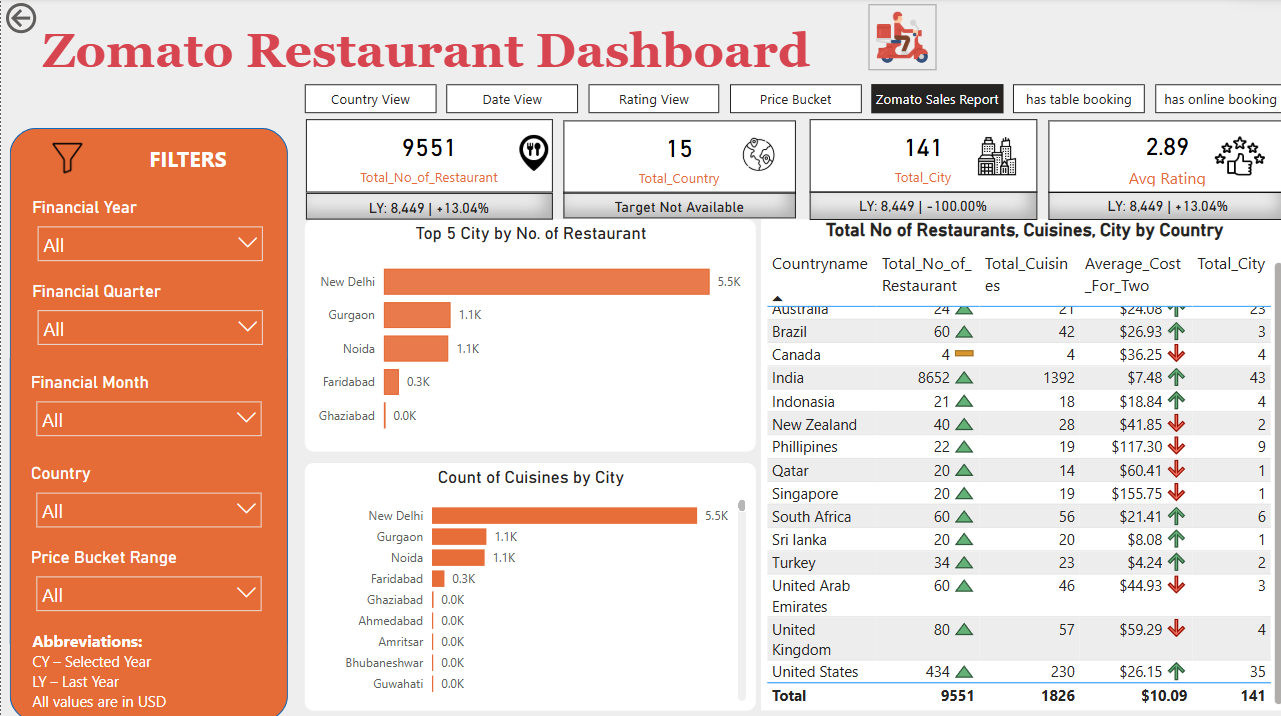

The page's visual inventory and layout, read from the dashboard file:
{"tool":"powerbi","page":{"name":"Zomato Sales Report","canvas":[1280,720],"ordinal":4},"visuals":[{"type":"card","fields":{"Values":["CountNonNull(Main.RestaurantID)"]},"box":[303.8,121.2,245.5,72.7],"z":0},{"type":"card","fields":{"Values":["CountNonNull(Country.Countryname)"]},"box":[560.3,121.6,231,72.4],"z":1000},{"type":"shape","title":"FILTERS","box":[8.1,129.5,276.9,591],"z":2000},{"type":"card","fields":{"Values":["Count(Main.City)"]},"box":[804.5,121.2,226.5,72.7],"z":3000},{"type":"card","fields":{"Values":["Avg(Main.Rating)"]},"box":[1042.6,121.3,237.7,72.1],"z":4000},{"type":"image","box":[965.6,132.8,52.5,49.2],"z":5000},{"type":"barChart","title":"Top 5 City by No. of Restaurant","fields":{"Category":["Main.City"],"Y":["CountNonNull(Main.RestaurantID)"]},"box":[302.8,220.2,448.5,231.5],"z":6000},{"type":"image","box":[1201.6,123,62.3,67.2],"z":7000},{"type":"actionButton","box":[0,0,100,40],"z":8000},{"type":"barChart","fields":{"Category":["Main.City"],"Y":["CountNonNull(Main.Cuisines)"]},"box":[302.8,463.1,448.5,246.1],"z":9000},{"type":"tableEx","title":"Total No of Restaurants, Cuisines, City by Country","fields":{"Values":["Country.Countryname","CountNonNull(Main.RestaurantID)","Main.Cuisines","Avg(Main.Average_Cost_USD)","Main.City"]},"box":[756.2,220.2,524.6,489],"z":10000},{"type":"slicer","title":"Financial Year","fields":{"Values":["CalendarTable.Year"]},"box":[25.9,197.5,244.5,84.2],"z":11000},{"type":"image","box":[25.9,139.3,79.3,40.5],"z":12000},{"type":"slicer","title":"Financial Quarter","fields":{"Values":["CalendarTable.FinancialQuarter"]},"box":[25.9,281.7,244.5,74.5],"z":13000},{"type":"slicer","title":"Financial Month","fields":{"Values":["CalendarTable.FinancialMonth"]},"box":[24.3,372.4,244.5,64.8],"z":14000},{"type":"slicer","title":"Country","fields":{"Values":["Country.Countryname"]},"box":[24.3,463.1,244.5,90.7],"z":15000},{"type":"slicer","title":"Price Bucket Range","fields":{"Values":["Main.Price Bucket"]},"box":[24.3,545.7,244.5,77.7],"z":16000},{"type":"textbox","box":[102,140.9,168.4,43.7],"z":17000},{"type":"textbox","box":[25.9,623.4,242.9,97.2],"z":18000},{"type":"image","box":[506.8,129.5,48.6,50.2],"z":19000},{"type":"image","box":[724.6,134.4,60.7,42.6],"z":20000},{"type":"textbox","box":[36.1,19.9,814.8,65.9],"z":21000},{"type":"pageNavigator","box":[302.8,85.8,978,29.1],"z":22000},{"type":"image","box":[863.3,6.2,67.2,65.9],"z":23000},{"type":"card","fields":{"Values":["Main.LY_Summary"]},"box":[303.8,193.9,245.5,26.5],"z":24000},{"type":"card","fields":{"Values":["Main.TargetStatus"]},"box":[560.3,193.1,231,26.7],"z":25000},{"type":"card","fields":{"Values":["Main.LY_Summary_ByCity"]},"box":[804.5,193.2,226.5,28],"z":26000},{"type":"card","fields":{"Values":["Main.LY_Summary_ByRating"]},"box":[1042.4,193.2,237.9,28],"z":27000}]}

Visuals, with their boxes in screenshot pixels (x1, y1, x2, y2), scaled from the page's 1280x720 canvas onto the 1281x716 screenshot:
card - CountNonNull(Main.RestaurantID): rect(304, 121, 550, 193)
card - CountNonNull(Country.Countryname): rect(561, 121, 792, 193)
"FILTERS" shape: rect(8, 129, 285, 715)
card - Count(Main.City): rect(805, 121, 1032, 193)
card - Avg(Main.Rating): rect(1043, 121, 1280, 192)
image: rect(966, 132, 1019, 181)
"Top 5 City by No. of Restaurant" barChart: rect(303, 219, 752, 449)
image: rect(1203, 122, 1265, 189)
actionButton: rect(0, 0, 100, 40)
barChart - Main.City x CountNonNull(Main.Cuisines): rect(303, 461, 752, 705)
"Total No of Restaurants, Cuisines, City by Country" tableEx: rect(757, 219, 1280, 705)
"Financial Year" slicer: rect(26, 196, 271, 280)
image: rect(26, 139, 105, 179)
"Financial Quarter" slicer: rect(26, 280, 271, 354)
"Financial Month" slicer: rect(24, 370, 269, 435)
"Country" slicer: rect(24, 461, 269, 551)
"Price Bucket Range" slicer: rect(24, 543, 269, 620)
textbox: rect(102, 140, 271, 184)
textbox: rect(26, 620, 269, 715)
image: rect(507, 129, 556, 179)
image: rect(725, 134, 786, 176)
textbox: rect(36, 20, 852, 85)
pageNavigator: rect(303, 85, 1280, 114)
image: rect(864, 6, 931, 72)
card - Main.LY_Summary: rect(304, 193, 550, 219)
card - Main.TargetStatus: rect(561, 192, 792, 219)
card - Main.LY_Summary_ByCity: rect(805, 192, 1032, 220)
card - Main.LY_Summary_ByRating: rect(1043, 192, 1280, 220)
